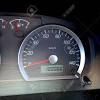Digital_Meter: (38, 65, 68, 74)
